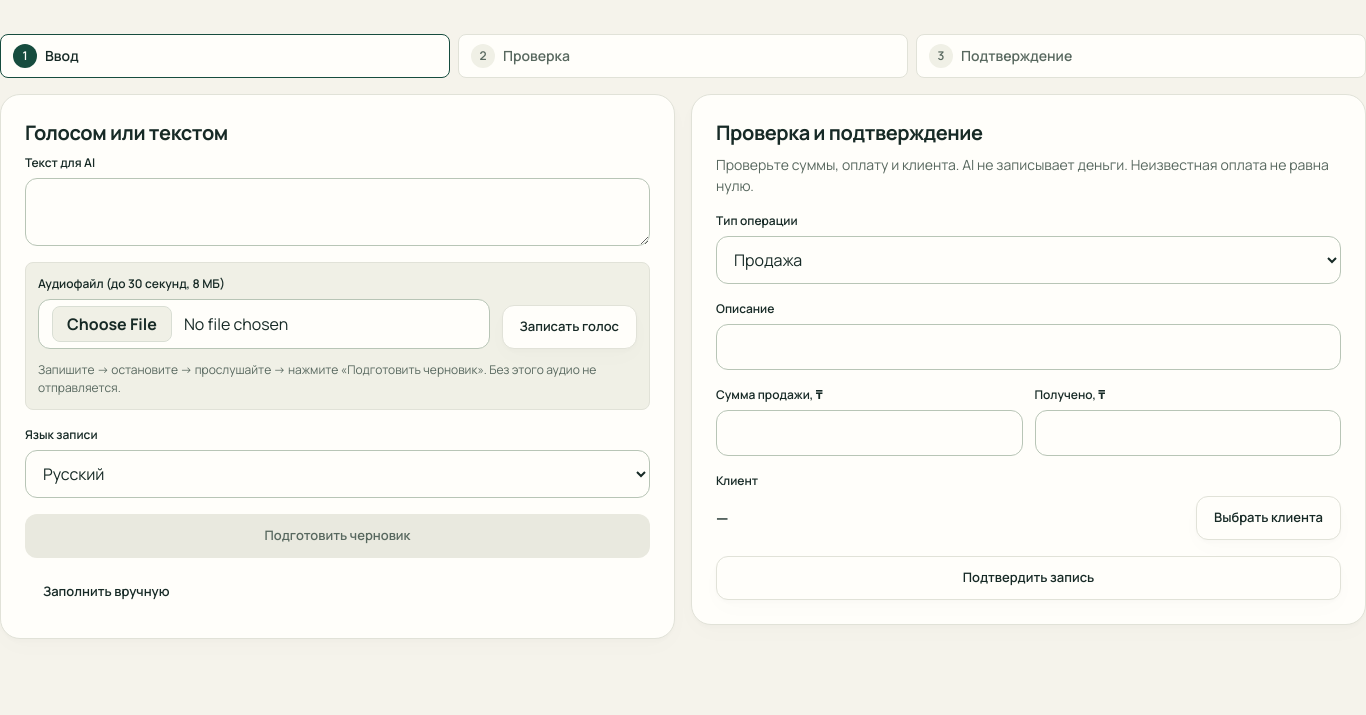
Test: Новая запись › shows one AI error with retry and manual actions, then clears it for manual input
Type "Продал на 3000, получил 1000" into the text box labelled "Текст для AI" at {"x": 338, "y": 212}, box [25,178,650,246]
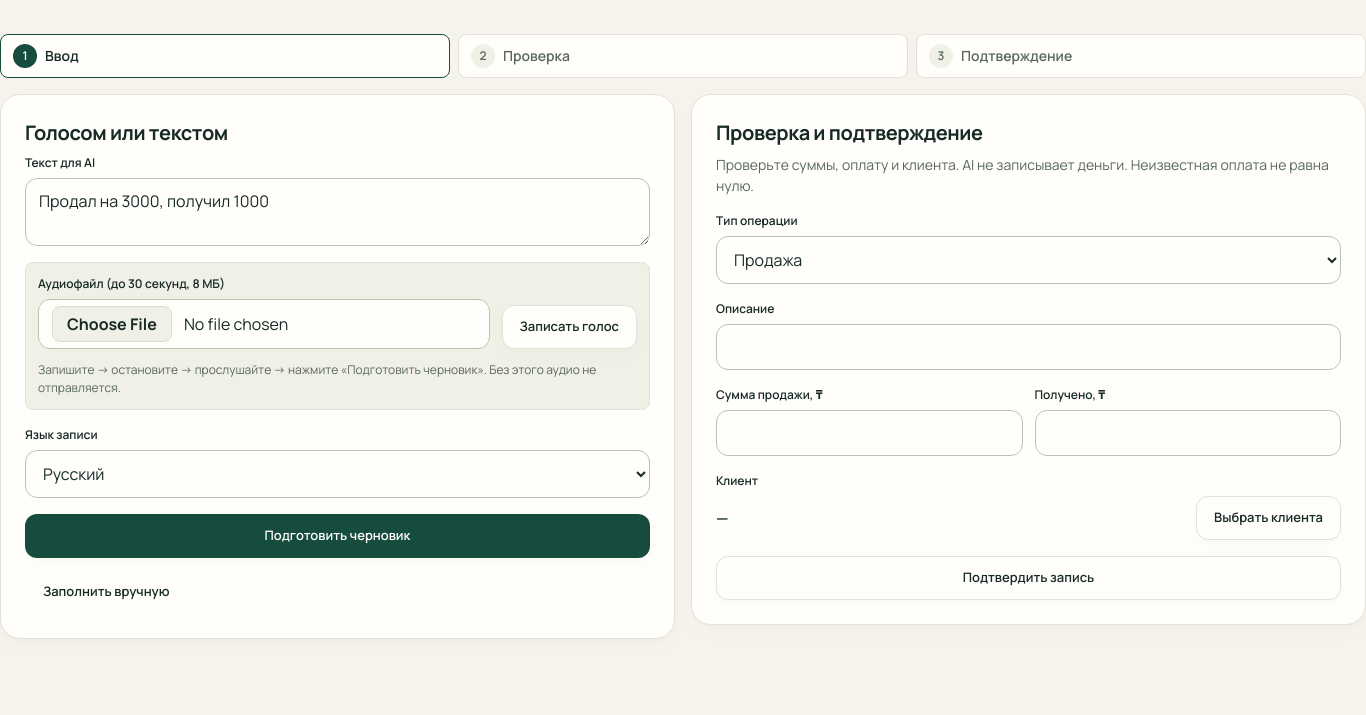
Click the button "Подготовить черновик" at {"x": 338, "y": 536}, box [25,514,650,558]
(page scrolled)
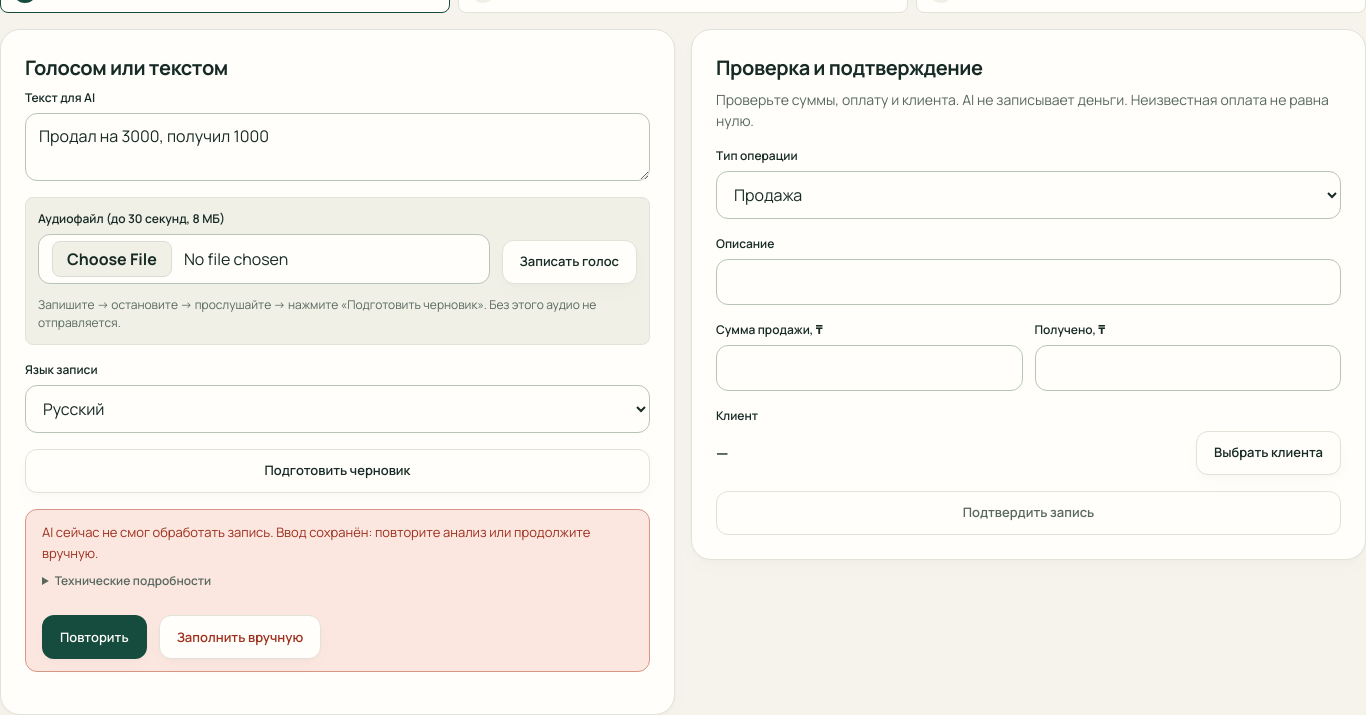
Expected: the message does not show "AI временно недоступен", [25,509,650,672]
Expected: the message shows "не смог обработать", [42,523,590,562]
Expected: the button "Повторить" is enabled, [42,615,147,659]
Click the button "Заполнить вручную" at {"x": 240, "y": 637}, box [159,615,321,659]
(page scrolled)
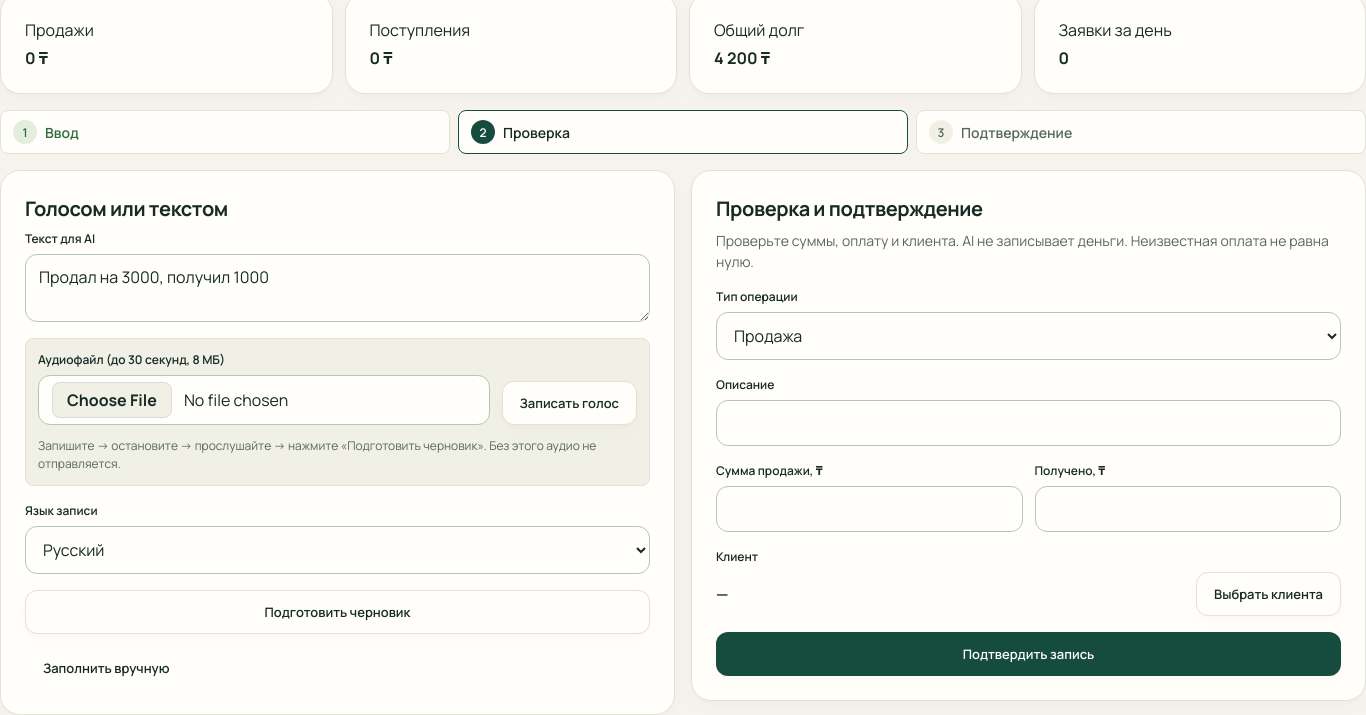
Expected: the message is gone
Expected: the button "Подтвердить запись" is enabled, [716,632,1341,676]
